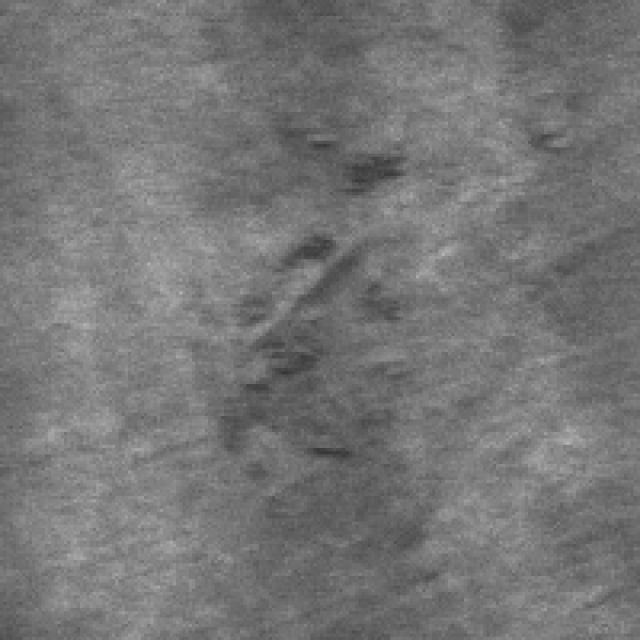rolled-in_scale: (211, 195, 410, 502), (250, 99, 412, 227)
